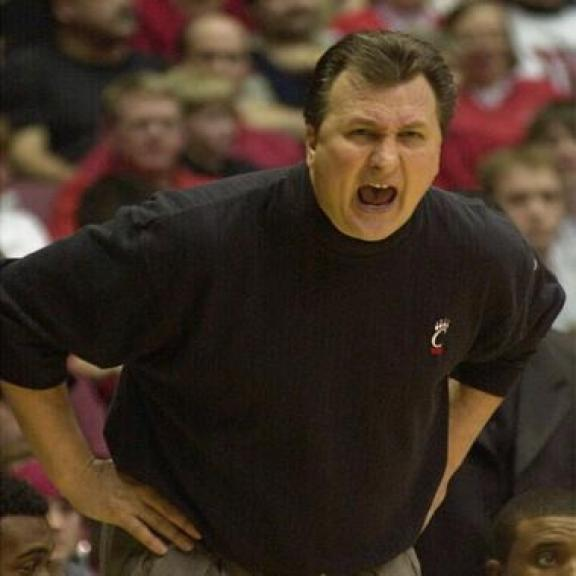face: (301, 72, 444, 248), (489, 170, 561, 254), (113, 92, 182, 167), (182, 19, 253, 87), (457, 7, 513, 82), (533, 116, 576, 192), (190, 96, 240, 160)
